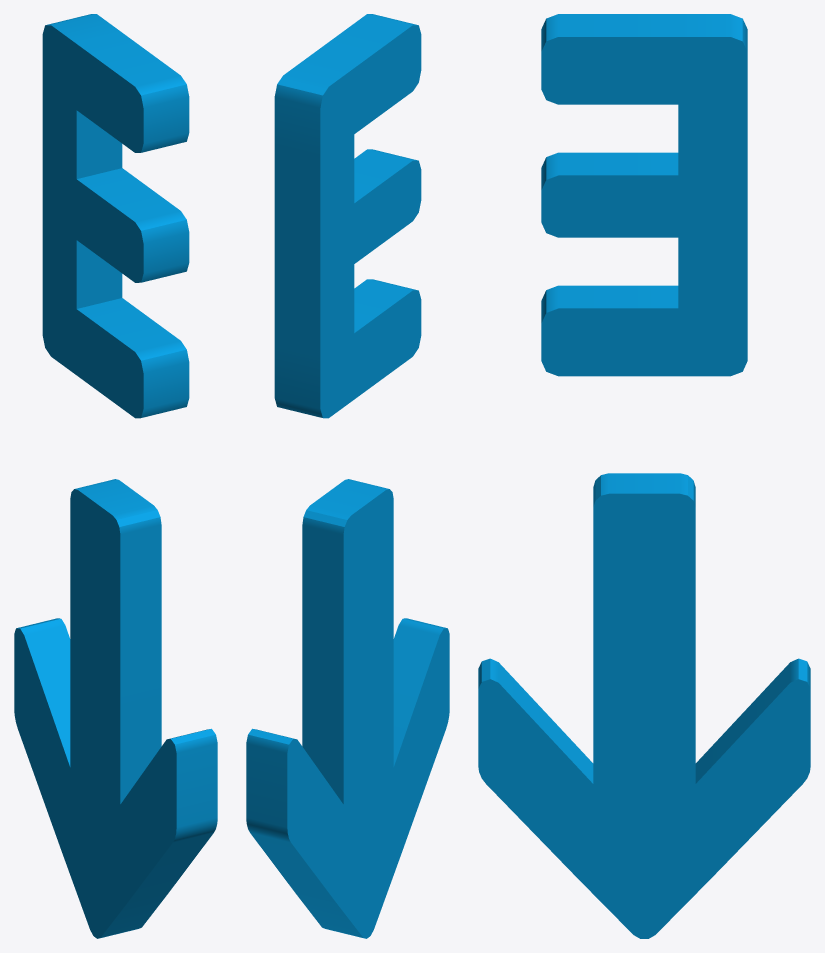
File: Arrow.fbx
3 renders of one model, left to right at view 1: azimuth 30°, elevation 25°; view 2: azimuth 150°, elevation 25°; view 3: azimuth 270°, elevation 25°, orthographic. The views are drawn at different scales.
Parts seen in each view (by area): view 1: EArrow; view 2: EArrow; view 3: EArrow.
Part boxes in pixels (left/top/right/bottom): EArrow: left=14, top=14, right=217, bottom=938; EArrow: left=246, top=14, right=449, bottom=938; EArrow: left=478, top=14, right=810, bottom=938.
Bounding box in the file's own units: 0.4086 × 7.52 × 2.51.
